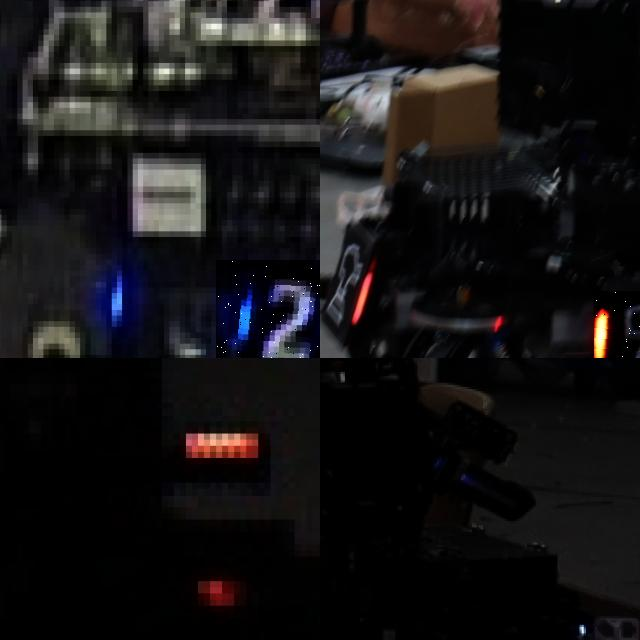B2: (216, 259, 320, 358)
Rs: (328, 231, 377, 332), (594, 291, 640, 358)
